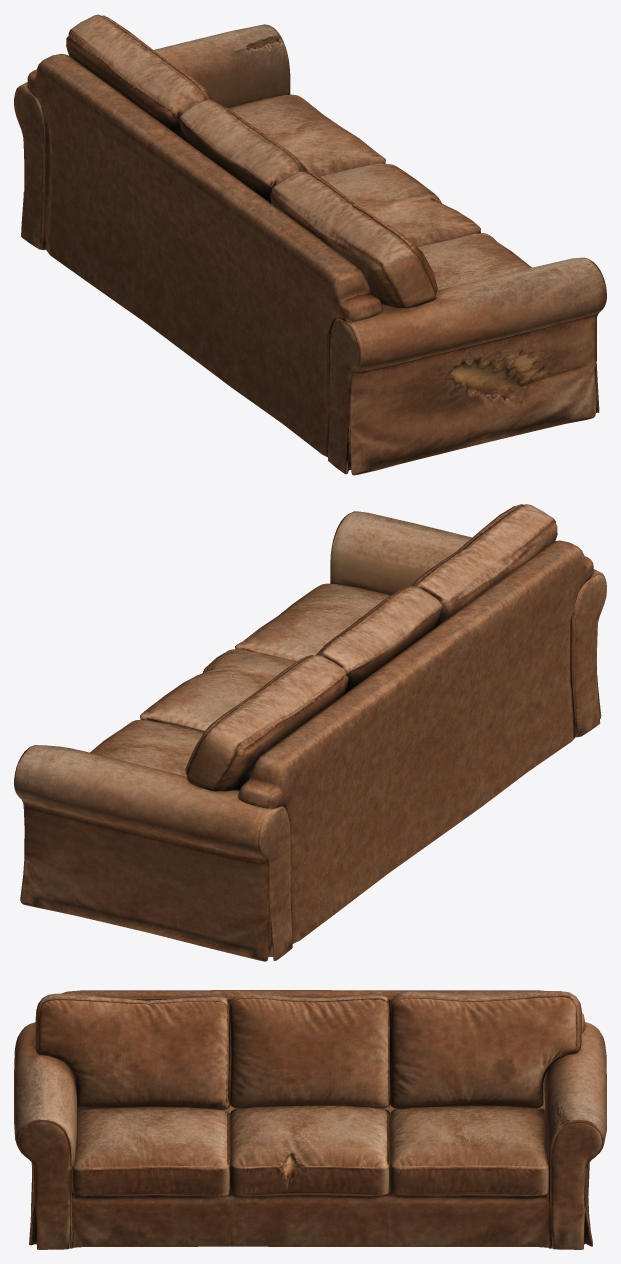
File: 沙发3d模型(1).fbx
3 renders of one model, top to bottom at view 1: azimuth 30°, elevation 25°; view 2: azimuth 150°, elevation 25°; view 3: azimuth 270°, elevation 25°, orthographic. The views are drawn at different scales.
Visible parts, largest first — view 1: tripo_54028208_e3c6_4e41_a338_4745c2c84a05; view 2: tripo_54028208_e3c6_4e41_a338_4745c2c84a05; view 3: tripo_54028208_e3c6_4e41_a338_4745c2c84a05.
Part boxes in pixels (x1,y1,x2,y2): tripo_54028208_e3c6_4e41_a338_4745c2c84a05: [14, 14, 606, 475]; tripo_54028208_e3c6_4e41_a338_4745c2c84a05: [14, 504, 606, 961]; tripo_54028208_e3c6_4e41_a338_4745c2c84a05: [14, 990, 606, 1249].
Bounding box in the file's own units: 0.4204 × 0.3433 × 0.9995.
